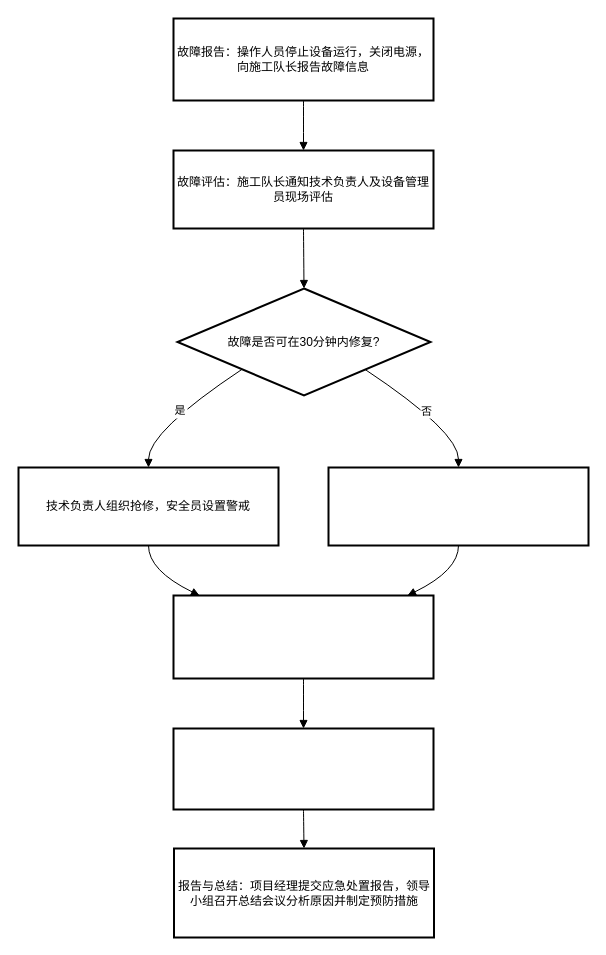
Some shapes in this 606 by 955 pixel diagram are drawn without their labels. The box of each missing label's shape, as (x1, y1, x2, y2) in pixels:
技术负责人联系拖车，告知位置及撤离路线: (327, 466, 589, 546)
现场清理：安全员组织清理现场，技术负责人填写故障处置记录: (172, 727, 434, 810)
设备拖离：拖车在安全员引导下将设备拖离至指定停放区，施工队长全程跟随: (172, 594, 434, 679)
